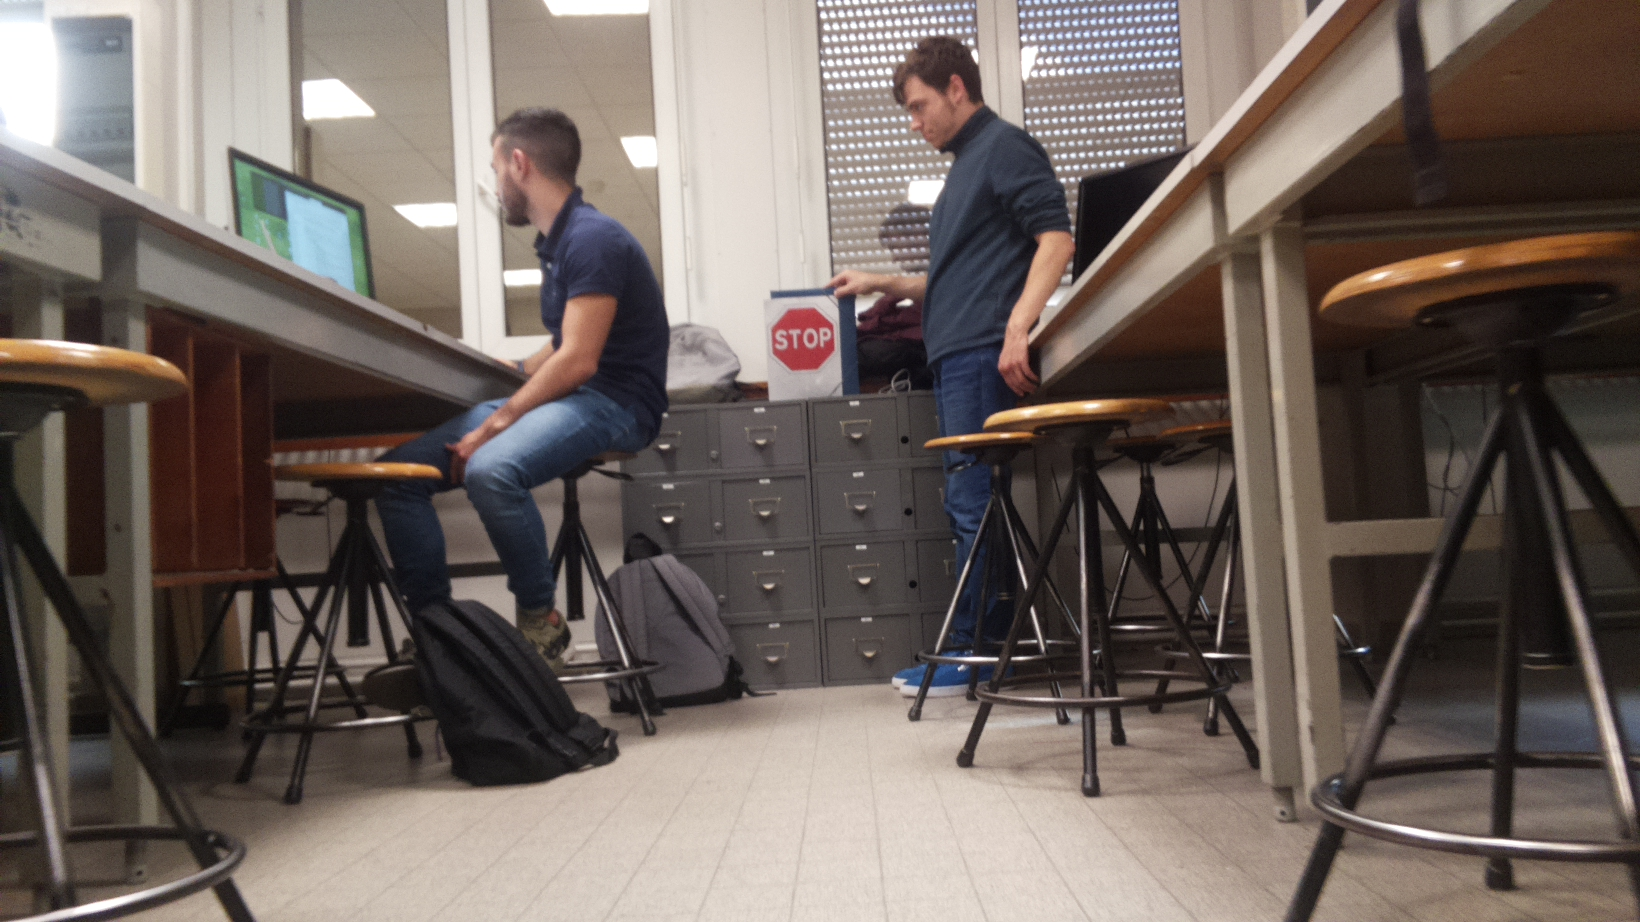stop: (768, 303, 839, 373)
